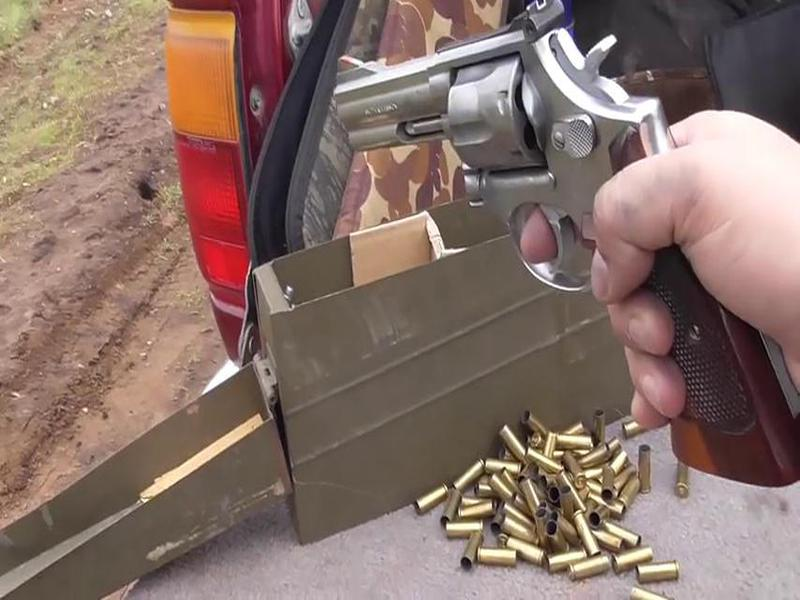Revolver: (323, 28, 720, 374)
